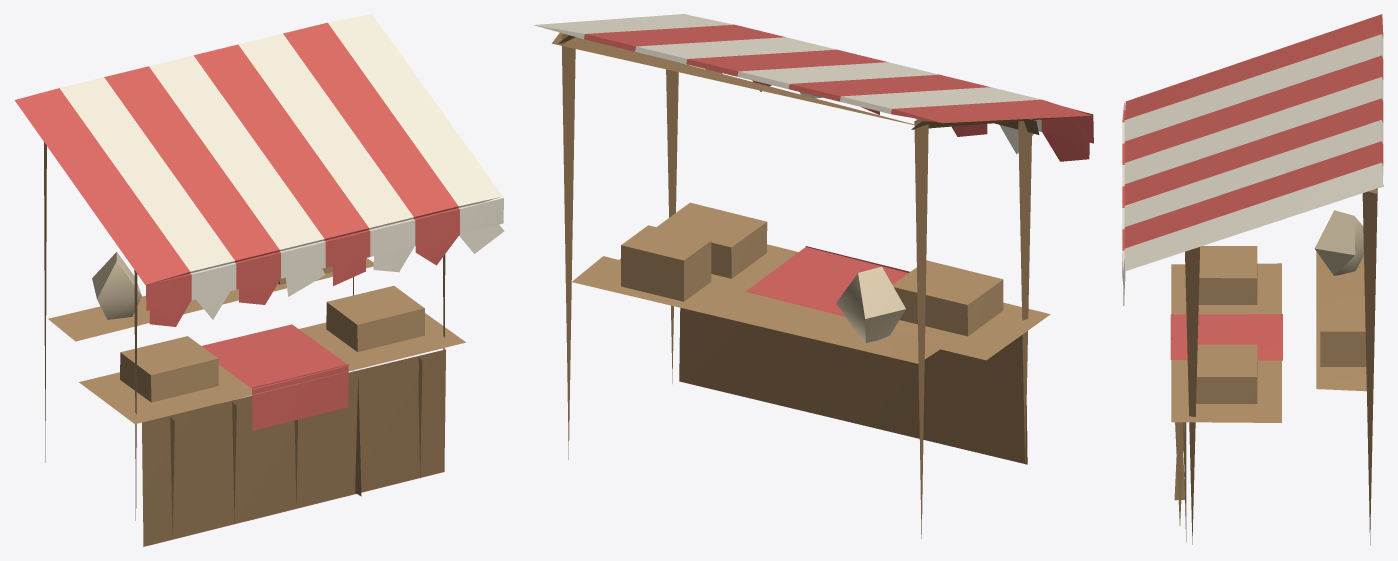
The model's file is generated.market_stall_red.gltf.
3 views of the same model, side by side, from view 1: azimuth 30°, elevation 25°; view 2: azimuth 150°, elevation 25°; view 3: azimuth 270°, elevation 25° (orthographic). The views are drawn at different scales.
Visible parts, largest first — view 1: market_stall_red; view 2: market_stall_red; view 3: market_stall_red.
Boxes of the visible parts, x1=… form: market_stall_red: x1=14, y1=14, x2=504, y2=546; market_stall_red: x1=533, y1=14, x2=1093, y2=538; market_stall_red: x1=1122, y1=14, x2=1383, y2=545.
Bounding box in the file's own units: 2.61 × 2.65 × 1.68.
